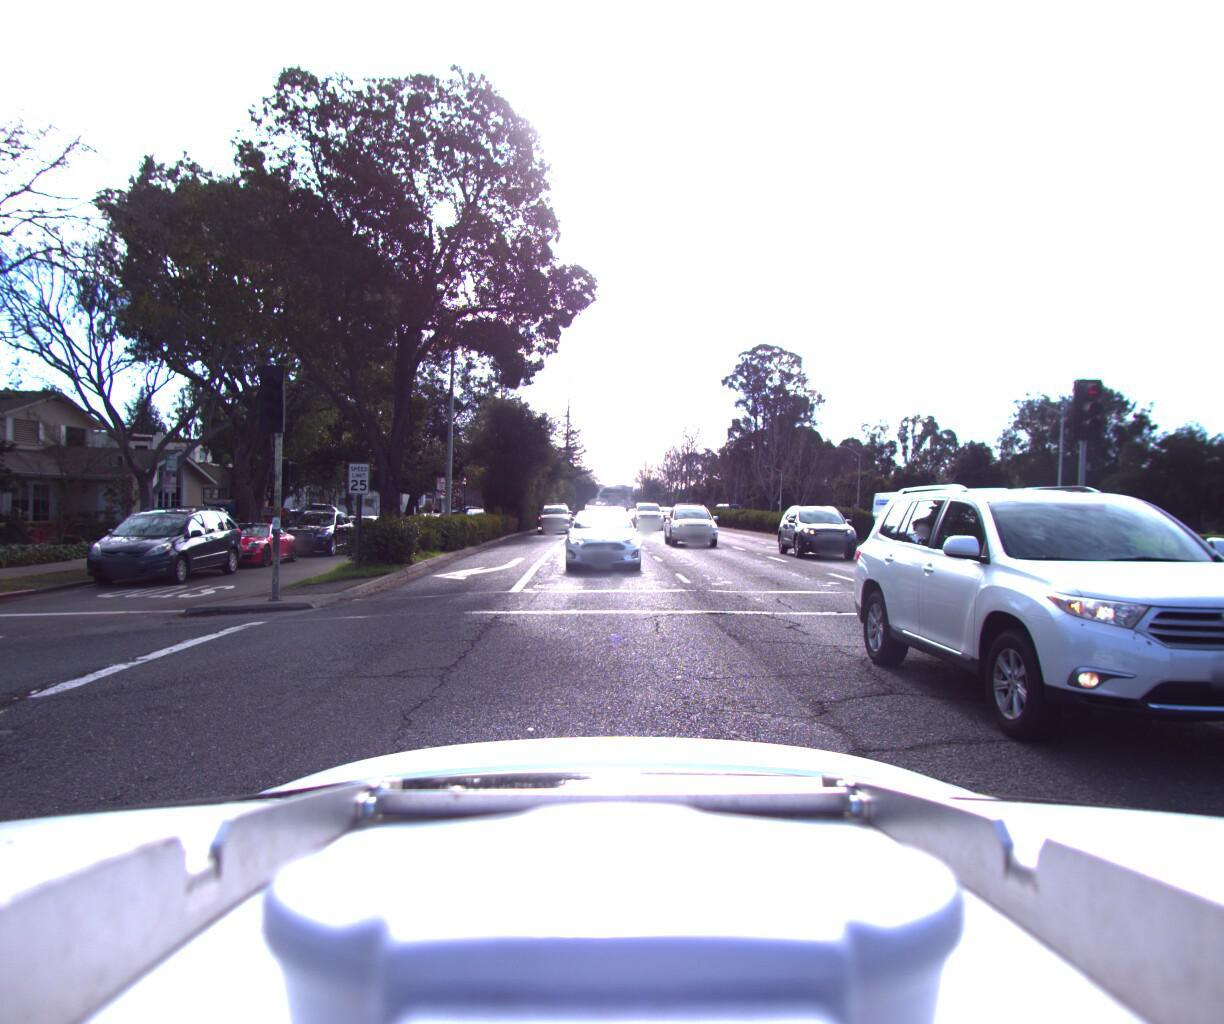car: (888, 448, 1224, 961), (65, 498, 257, 592), (189, 514, 308, 573), (781, 498, 882, 566), (559, 503, 648, 578), (273, 504, 362, 557), (664, 497, 732, 550), (326, 510, 393, 552), (229, 501, 298, 530), (1207, 513, 1224, 606), (532, 502, 570, 535), (631, 499, 667, 531)
truck: (856, 481, 941, 544)
